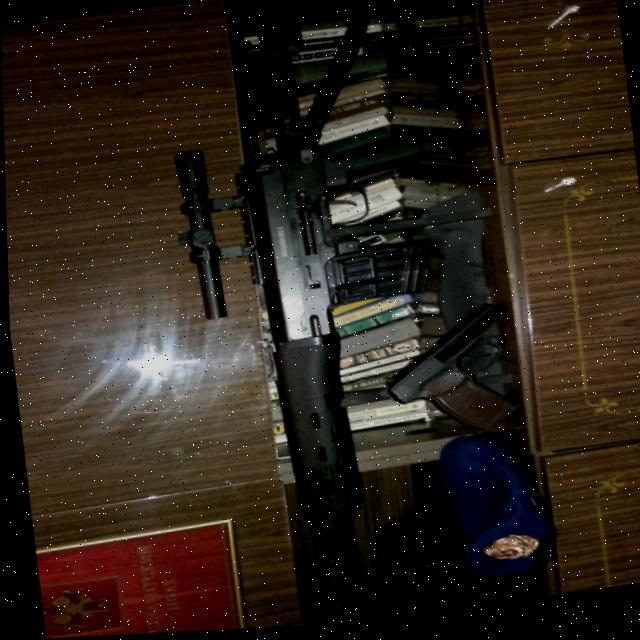firearm: (150, 0, 471, 634)
pistol: (377, 304, 517, 446)
